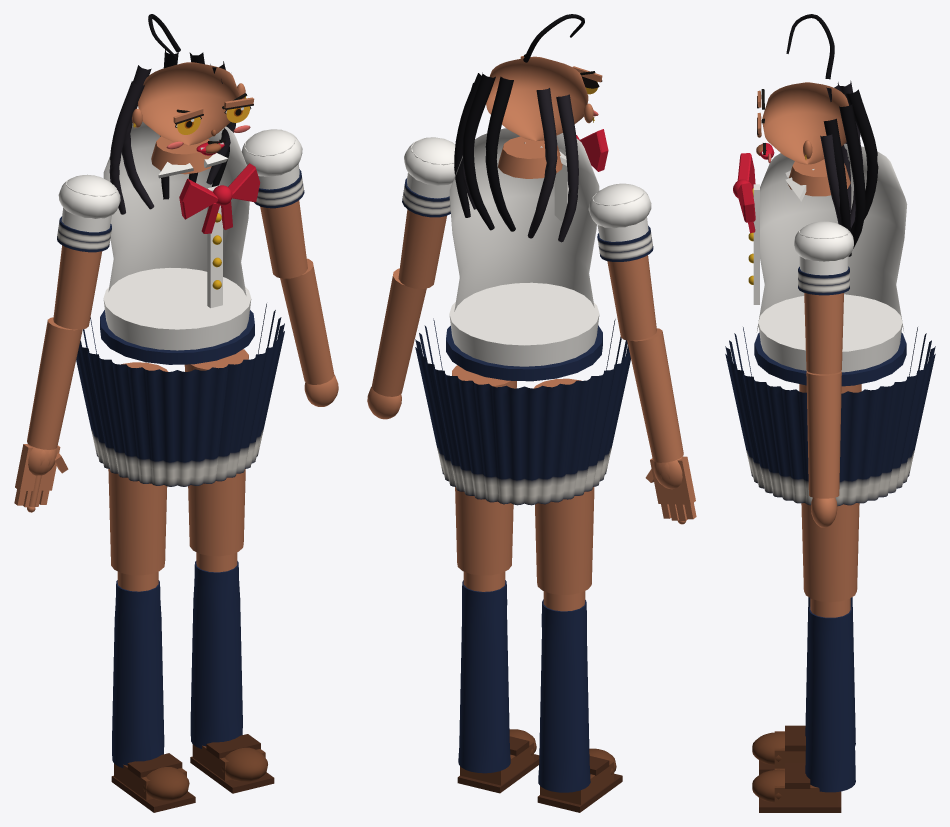
File: star-rai-wip.glb
The picture shows the model from 3 angles, left to right: view 1: azimuth 30°, elevation 25°; view 2: azimuth 150°, elevation 25°; view 3: azimuth 270°, elevation 25°; orthographic projection. The views are drawn at different scales.
Parts seen in each view (by area): view 1: skirt, shirt, shirtHem, sockL, sockR, headMesh, thighR, thighL, foreR, foreL, armR, armL (+26 smaller); view 2: skirt, shirt, shirtHem, sockR, sockL, thighR, headMesh, thighL, foreR, foreL, armR, armL (+24 smaller); view 3: skirt, shirt, sockL, shirtHem, thighL, headMesh, foreL, armL, waistband, sleevePuffL, hairLock2, hairLock4 (+19 smaller).
Boxes of the visible parts, left/top/right/bottom form: skirt: left=76, top=303, right=284, bottom=486; shirt: left=103, top=121, right=249, bottom=295; shirtHem: left=103, top=268, right=251, bottom=350; sockL: left=190, top=561, right=242, bottom=748; sockR: left=112, top=580, right=164, bottom=767; headMesh: left=137, top=62, right=239, bottom=145; thighR: left=108, top=362, right=168, bottom=575; thighL: left=184, top=349, right=248, bottom=556; foreR: left=27, top=317, right=82, bottom=449; foreL: left=280, top=258, right=334, bottom=384; armR: left=53, top=245, right=102, bottom=329; armL: left=260, top=200, right=307, bottom=278; skirt: left=415, top=318, right=630, bottom=505; shirt: left=449, top=128, right=599, bottom=311; shirtHem: left=449, top=282, right=599, bottom=366; sockR: left=538, top=599, right=590, bottom=792; sockL: left=458, top=580, right=510, bottom=773; thighR: left=533, top=378, right=594, bottom=594; headMesh: left=486, top=56, right=588, bottom=141; thighL: left=452, top=365, right=516, bottom=575; foreR: left=627, top=328, right=683, bottom=462; foreL: left=371, top=268, right=426, bottom=396; armR: left=607, top=255, right=656, bottom=340; armL: left=398, top=209, right=446, bottom=288; skirt: left=725, top=327, right=935, bottom=506; shirt: left=756, top=143, right=907, bottom=332; sockL: left=805, top=607, right=855, bottom=792; shirtHem: left=758, top=294, right=902, bottom=372; thighL: left=801, top=503, right=859, bottom=602; headMesh: left=762, top=82, right=848, bottom=164; foreL: left=806, top=371, right=841, bottom=498; armL: left=804, top=293, right=843, bottom=374; waistband: left=754, top=332, right=906, bottom=386; sleevePuffL: left=794, top=221, right=853, bottom=261; hairLock2: left=839, top=104, right=865, bottom=248; hairLock4: left=846, top=89, right=878, bottom=233.
Size of the model in its own units: 0.5721 by 1.31 by 0.3321.
